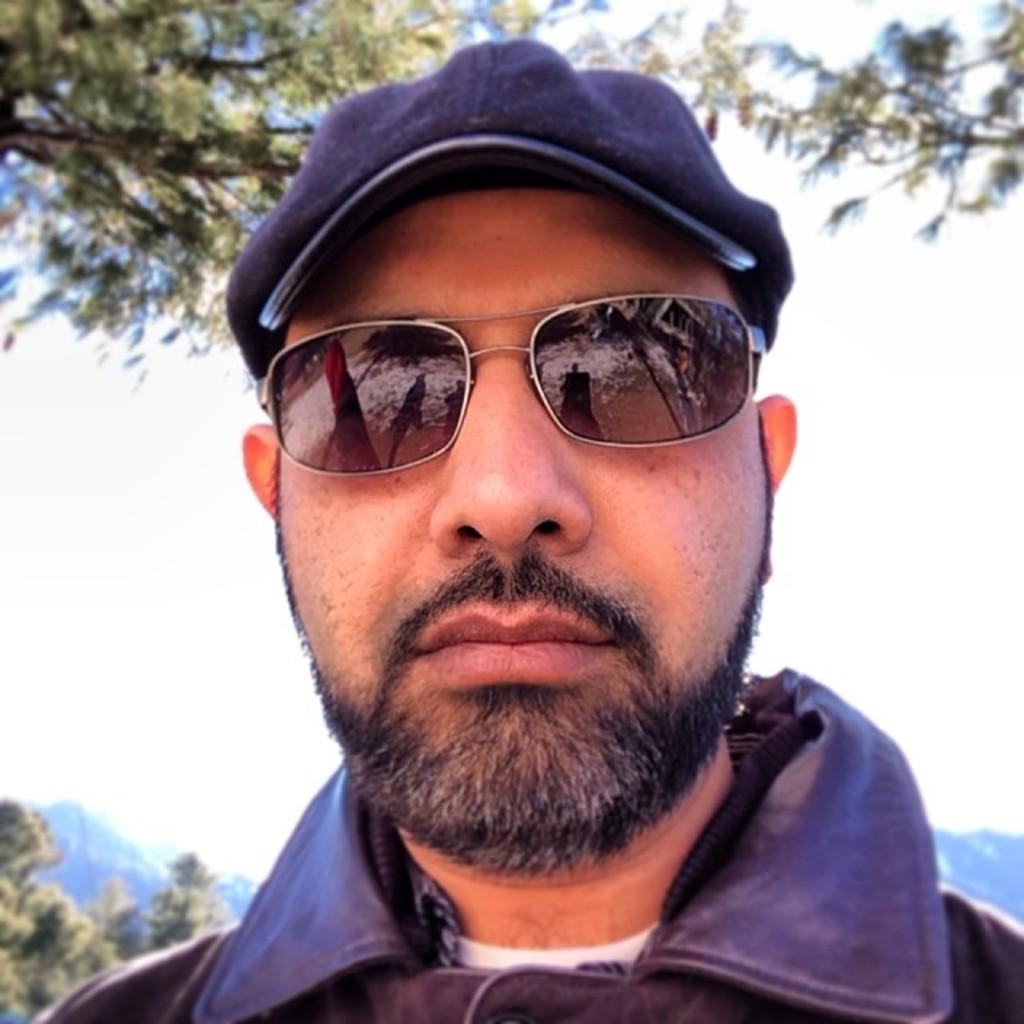Hat: (224, 44, 788, 382)
